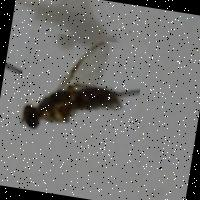Oriental-fruit-fly: (12, 28, 146, 153)
